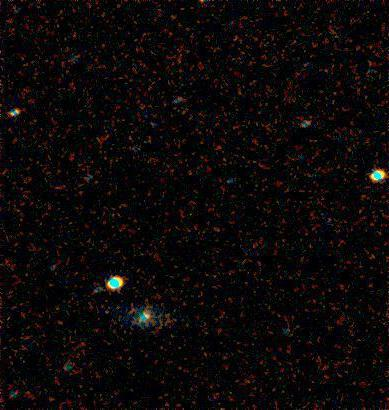star: (92, 303, 122, 333)
